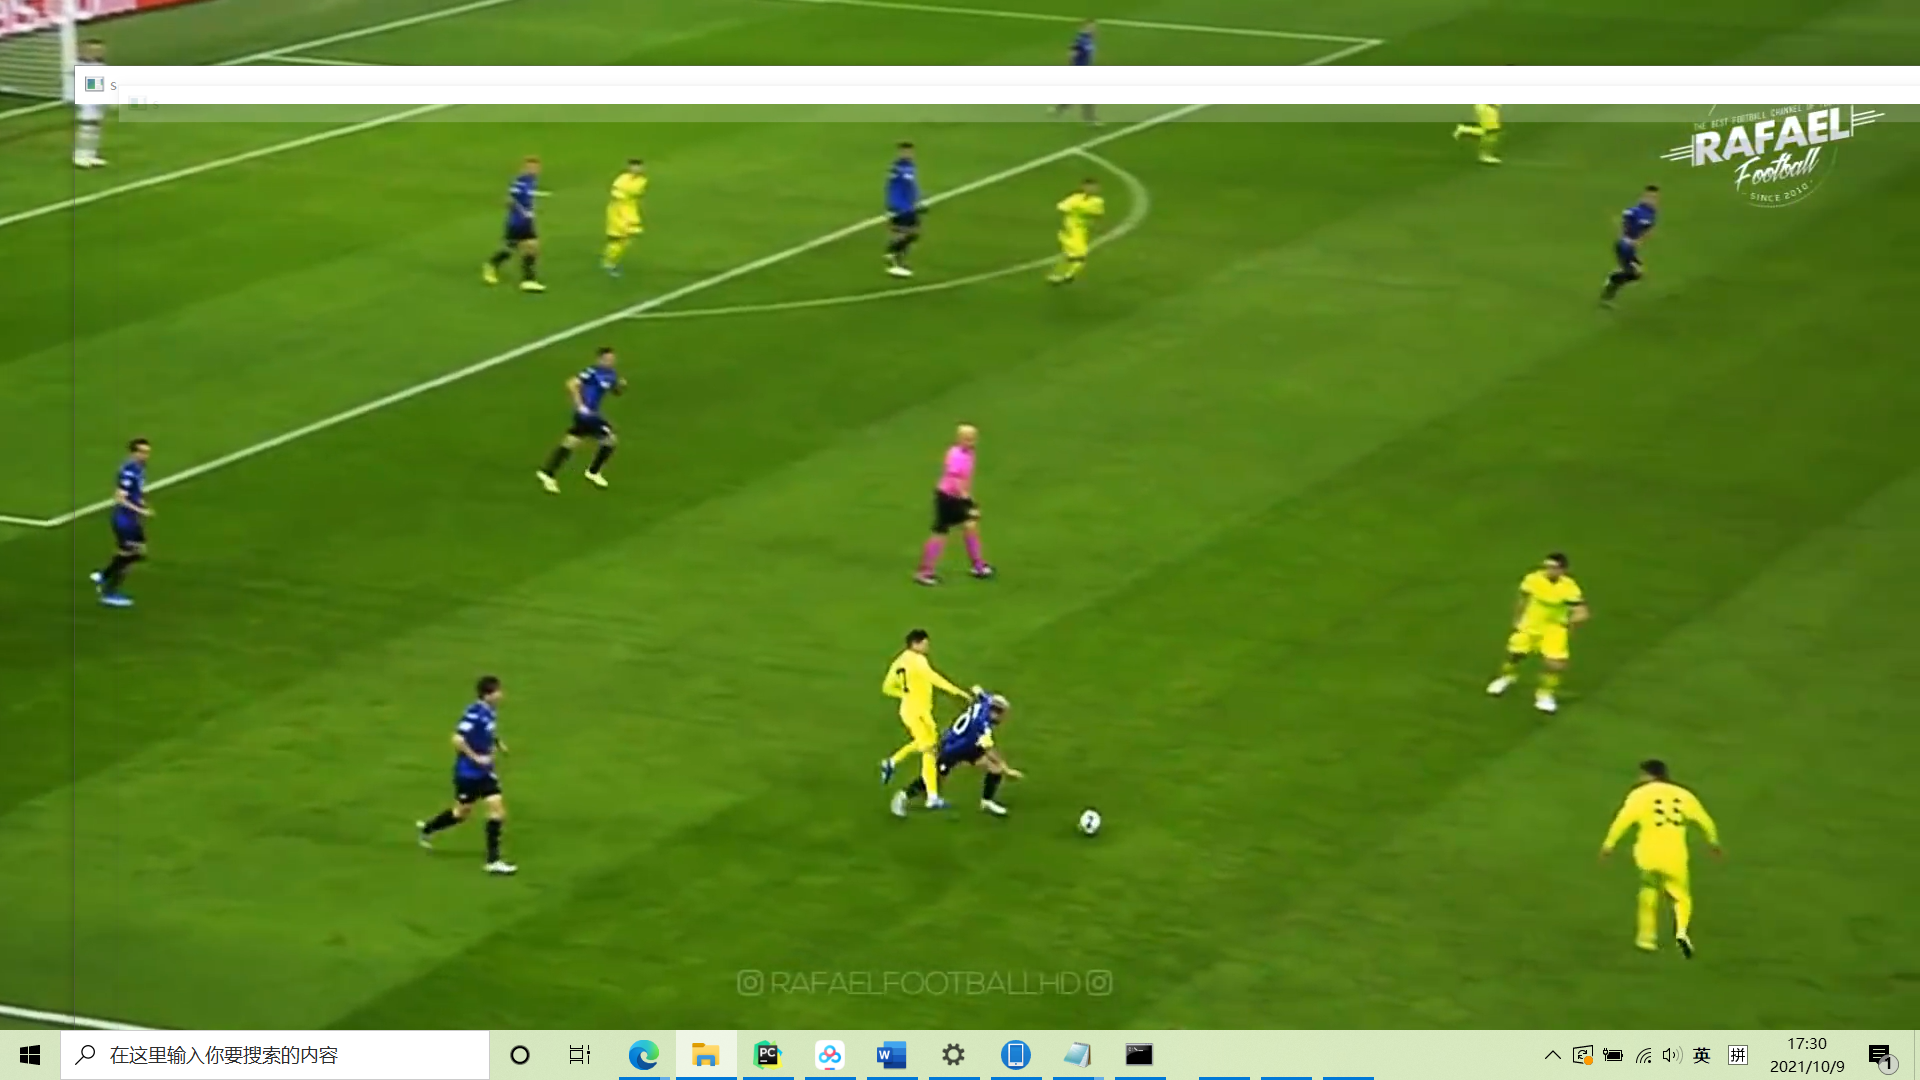ft: (1073, 806, 1106, 840)
